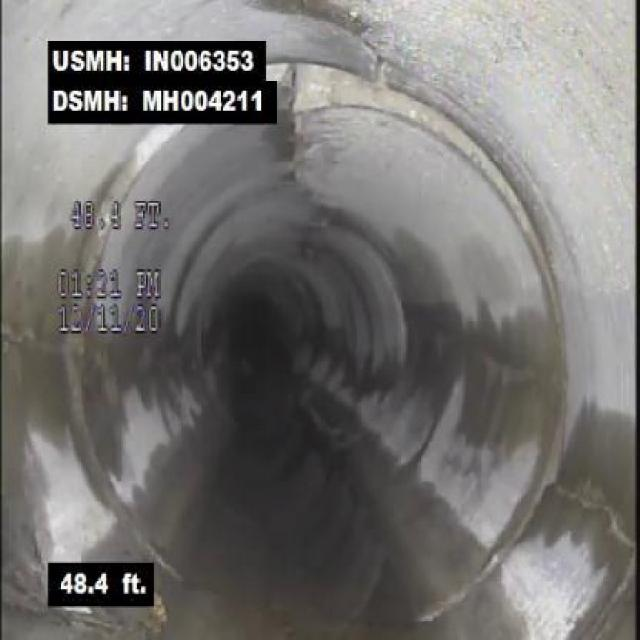Buckling: (269, 63, 331, 206)
Crack: (569, 477, 637, 558)
Joint offset: (346, 77, 528, 215)
